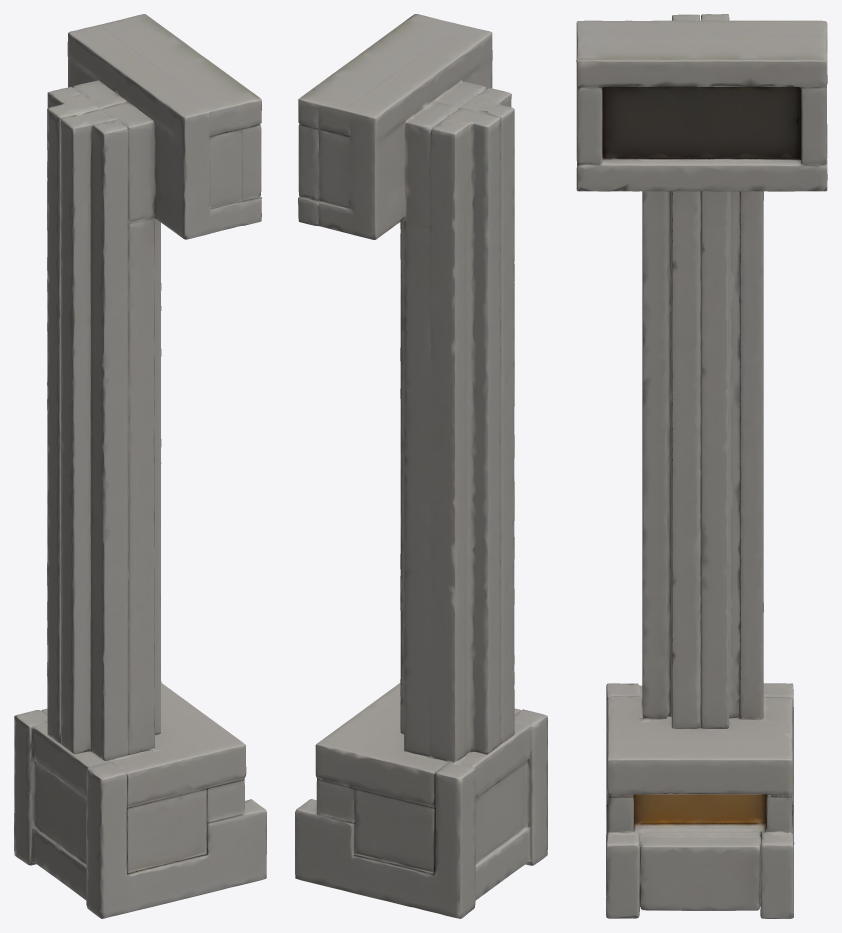
Rendered from tripo-output.glb.
The picture shows the model from 3 angles, left to right: view 1: azimuth 30°, elevation 25°; view 2: azimuth 150°, elevation 25°; view 3: azimuth 270°, elevation 25°; orthographic projection. The views are drawn at different scales.
Visible parts, largest first — view 1: tripo_node_18ee3a43-1cf1-4cb0-b5db-ccced58ac67f; view 2: tripo_node_18ee3a43-1cf1-4cb0-b5db-ccced58ac67f; view 3: tripo_node_18ee3a43-1cf1-4cb0-b5db-ccced58ac67f.
Part boxes in pixels (left/top/right/bottom): tripo_node_18ee3a43-1cf1-4cb0-b5db-ccced58ac67f: left=14, top=14, right=266, bottom=918; tripo_node_18ee3a43-1cf1-4cb0-b5db-ccced58ac67f: left=295, top=14, right=547, bottom=918; tripo_node_18ee3a43-1cf1-4cb0-b5db-ccced58ac67f: left=576, top=14, right=827, bottom=918.
Bounding box in the file's own units: 0.2184 × 1 × 0.268.
1 material, 1 textured.
